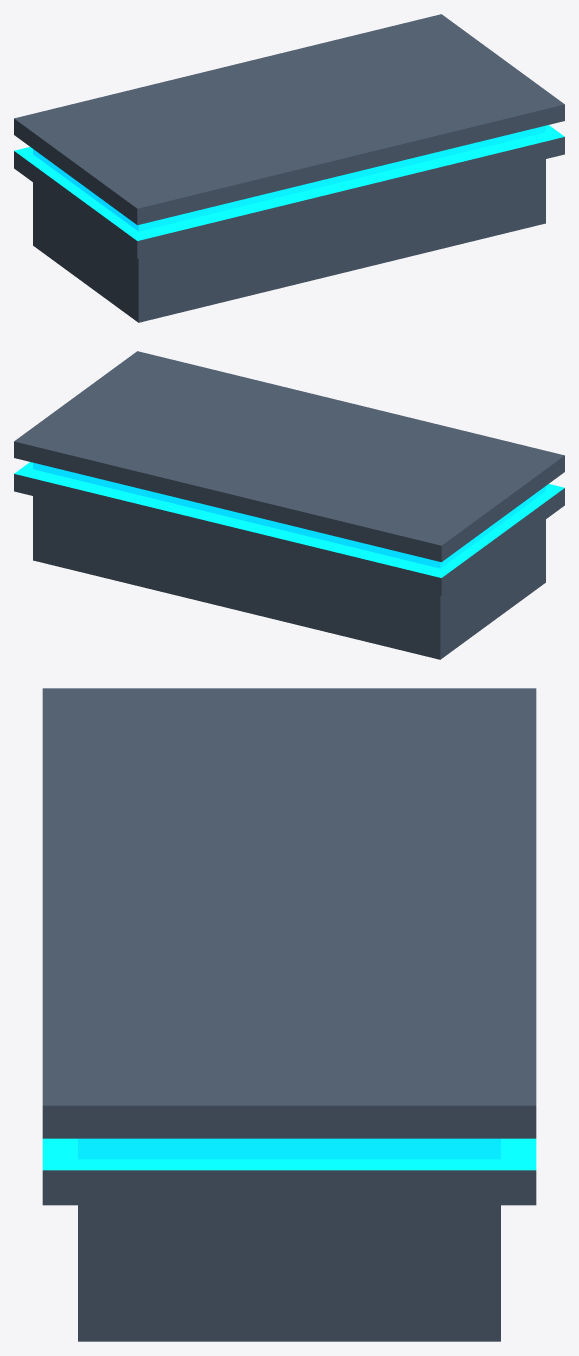
File: table.fbx
3 views of the same model, one above another, from view 1: azimuth 30°, elevation 25°; view 2: azimuth 150°, elevation 25°; view 3: azimuth 270°, elevation 25° (orthographic). The views are drawn at different scales.
Visible parts, largest first — view 1: LabTable; view 2: LabTable; view 3: LabTable.
Part boxes in pixels (bbox=[...]): LabTable: bbox=[14, 14, 564, 322]; LabTable: bbox=[14, 351, 564, 659]; LabTable: bbox=[42, 688, 536, 1341].
Bounding box in the file's own units: 400 × 110 × 200.
